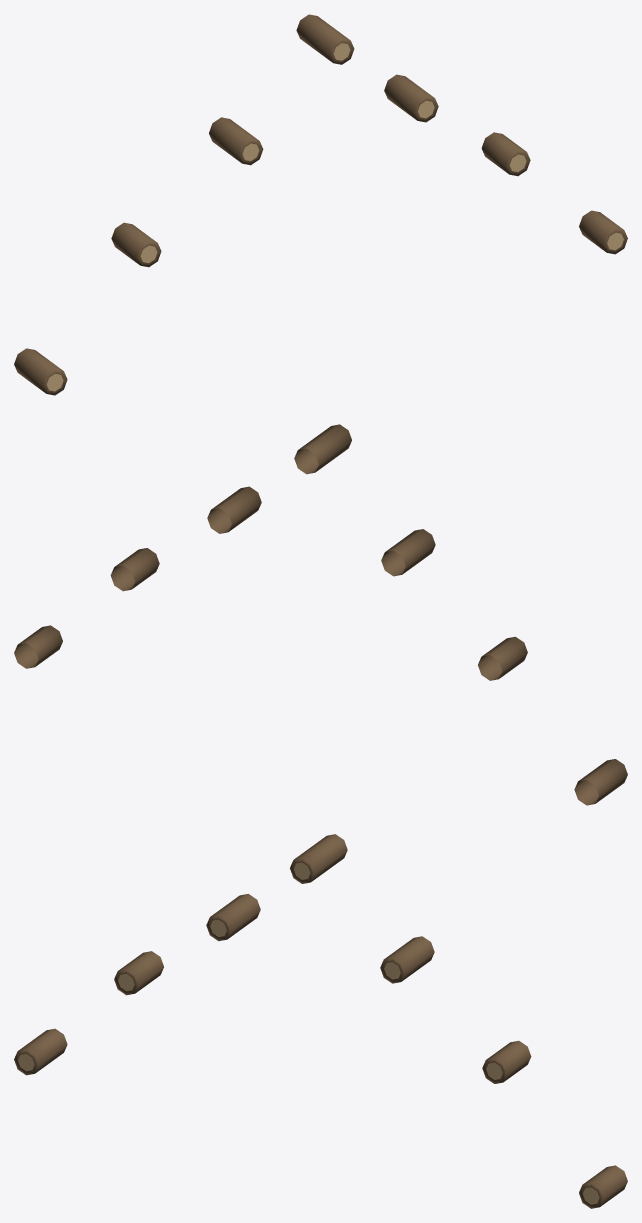
Rendered from rpgpp_ag_roof_support_01_6x3x3_end_01.fbx.
3 renders of one model, top to bottom at view 1: azimuth 30°, elevation 25°; view 2: azimuth 150°, elevation 25°; view 3: azimuth 330°, elevation 25°, orthographic.
Visible parts, largest first — view 1: rpgpp_ag_roof_support_01_6x3x3_end_01; view 2: rpgpp_ag_roof_support_01_6x3x3_end_01; view 3: rpgpp_ag_roof_support_01_6x3x3_end_01.
Boxes of the visible parts, x1,y1,x2,y2 form: rpgpp_ag_roof_support_01_6x3x3_end_01: (14,14,627,395); rpgpp_ag_roof_support_01_6x3x3_end_01: (14,424,627,805); rpgpp_ag_roof_support_01_6x3x3_end_01: (14,834,627,1208).
Bounding box in the file's own units: 6.06 × 2.86 × 0.5928.
